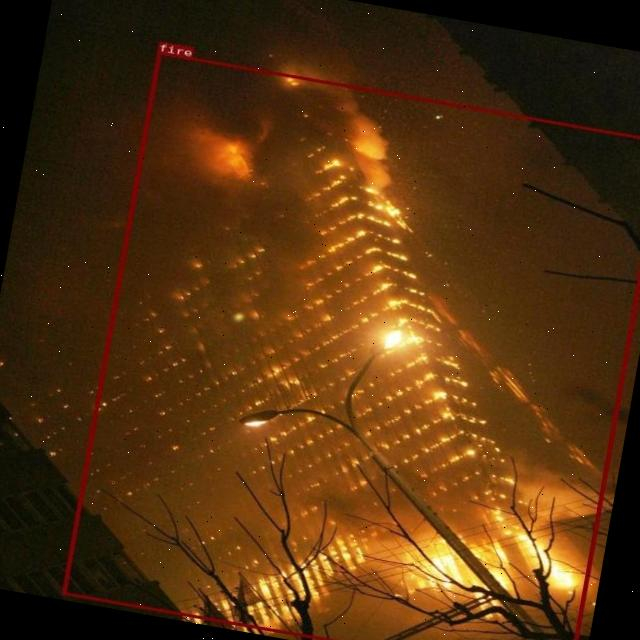fire: (61, 51, 640, 640)
